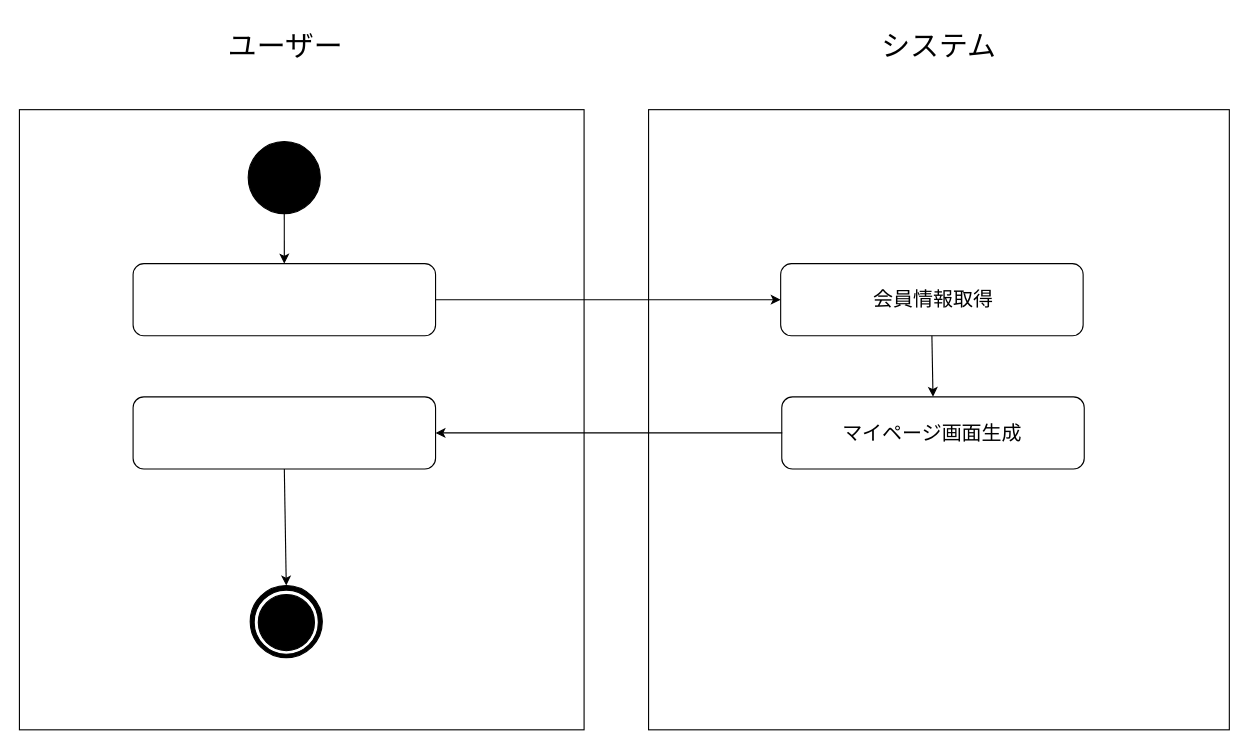
Image size: 1249x749. Some labels were removed from this diagram. The shapes that lost their labels are listed below. From the top down, each one's centre as x and y in pixels, then its label:
At point (284, 299): "マイページ選択".
At point (284, 432): "配達履歴詳細画面表示".
